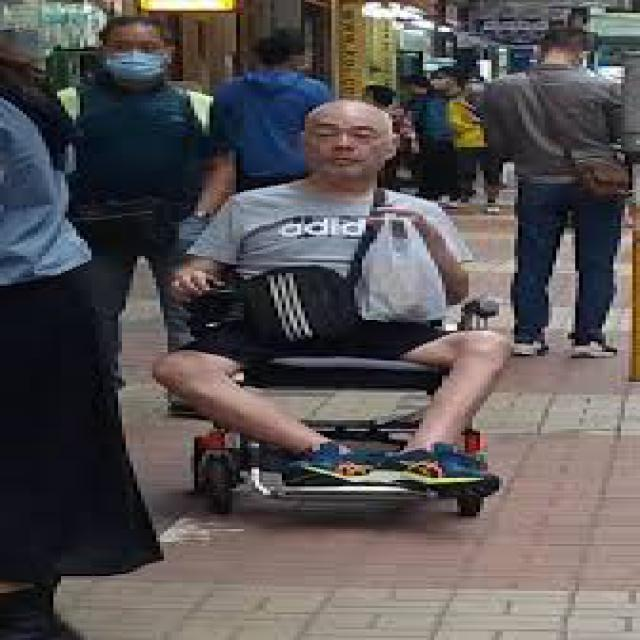wheelchairs: (163, 235, 514, 510)
